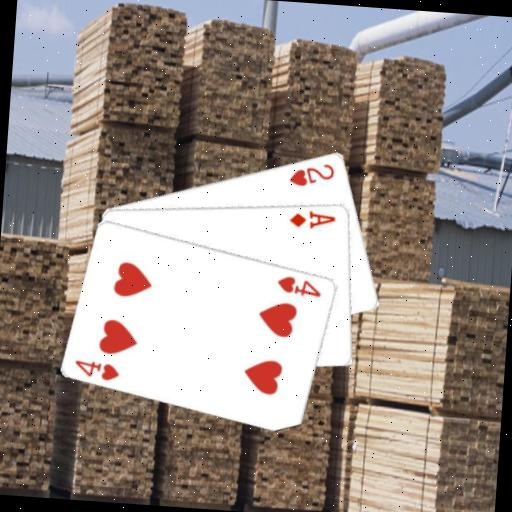2H: (286, 158, 337, 190)
4H: (71, 356, 122, 383), (274, 272, 324, 299)
AD: (287, 206, 338, 232)
